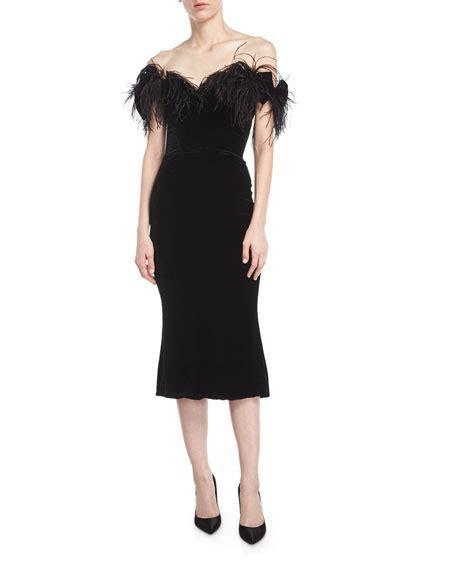dress: (130, 59, 287, 400)
